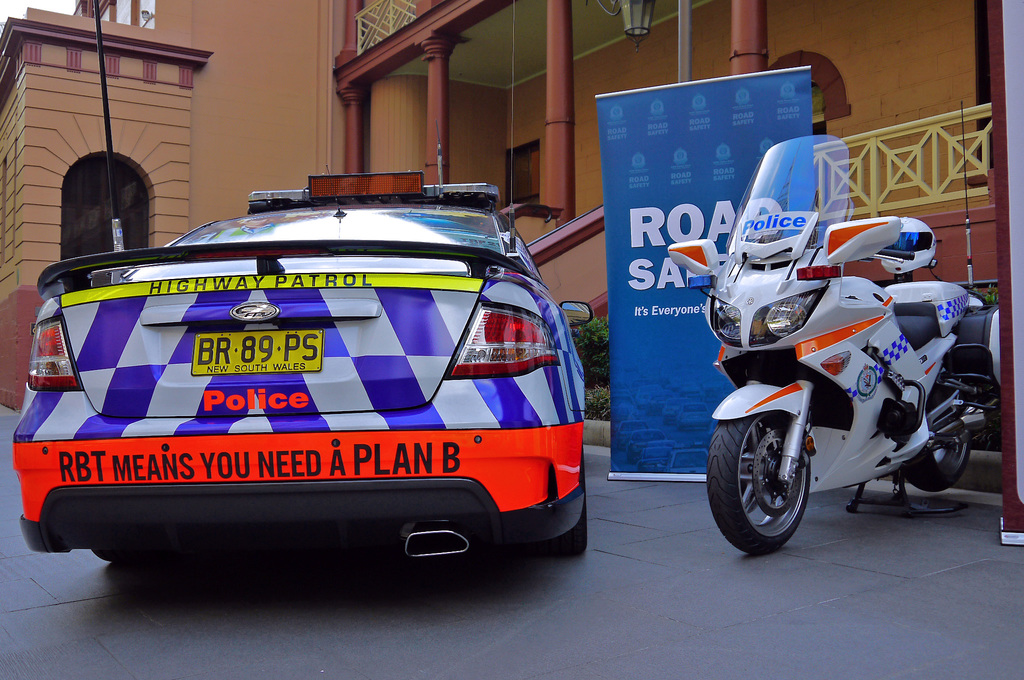cars: (8, 174, 606, 601)
